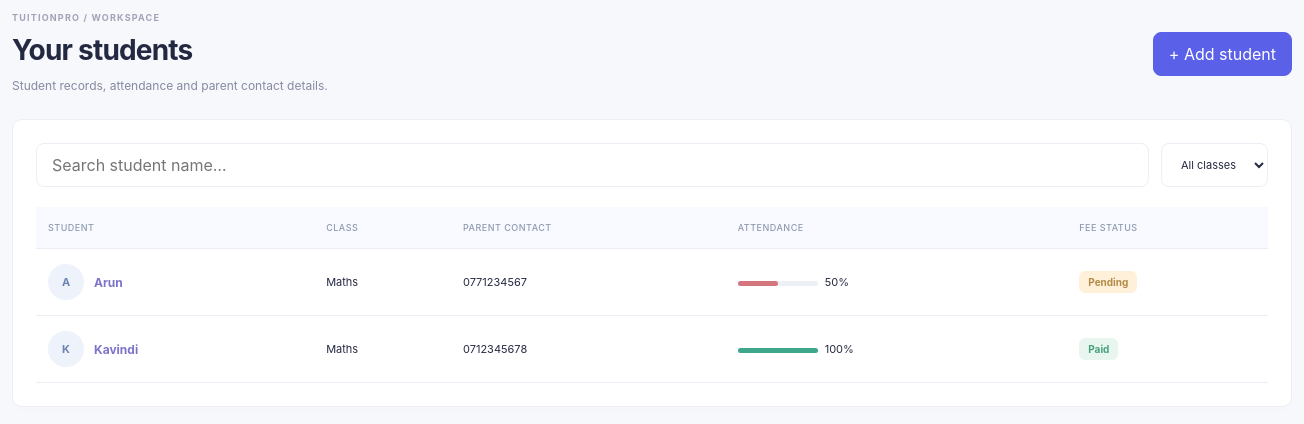
Test case: TuitionPro workflows › searches students by name without losing class filtering
The image size is (1304, 424).
Type "kav" into the field labelled "Search student name" at (592, 165), box x1=36 y1=143 x2=1149 y2=187
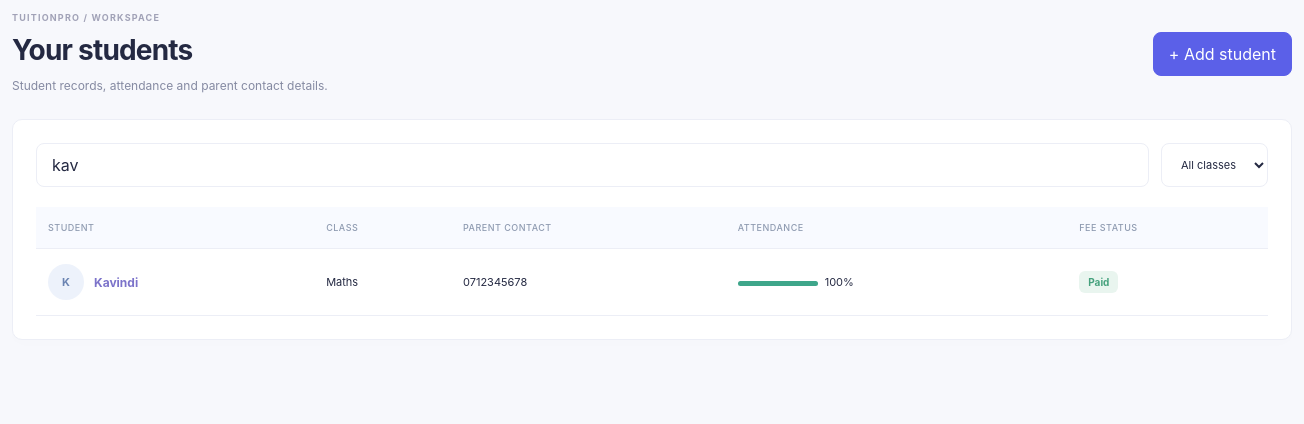
Check: the button "Kavindi" is shown, box x1=94 y1=275 x2=138 y2=290
Check: the button "Arun" is gone
